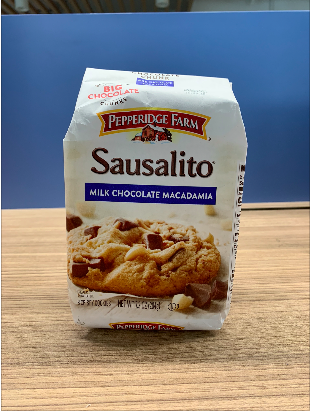Cookies_200-299g: (81, 85, 228, 329)
